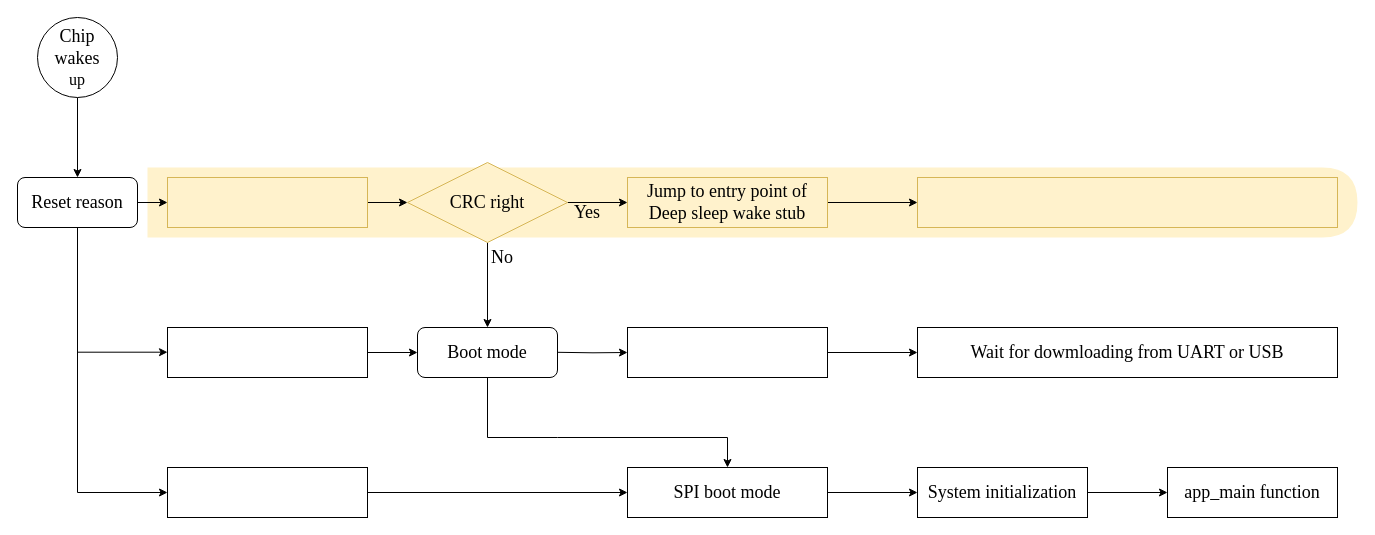
The diagram is 1375 pixels wide and 535 high, and some of its shapes have lost their labels. The centre of each missing label's shape, as x and y in pixels:
Deep sleep wake stub function: (x=1127, y=202)
Download boot mode: (x=727, y=352)
Power-on/software SoC/watchdog SoC reset: (x=267, y=352)
Reset from deep sleep: (x=267, y=202)
Software CPU/watchdog CPU reset: (x=267, y=492)
